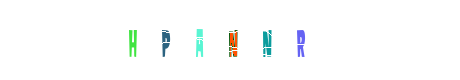A: (181, 0, 261, 80)
H: (92, 0, 172, 80)
N: (190, 0, 270, 80), (193, 0, 273, 80)
P: (168, 0, 248, 80)
R: (260, 0, 340, 80)
